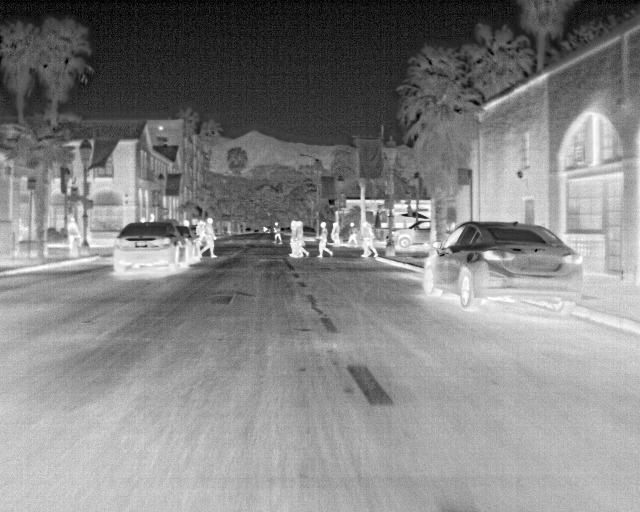bicycle: (419, 220, 584, 314), (110, 219, 185, 279), (388, 219, 428, 248), (177, 224, 196, 261)
empty: (198, 216, 221, 260), (358, 220, 381, 262), (290, 221, 314, 261), (315, 221, 334, 260), (65, 216, 82, 256), (346, 219, 359, 246), (271, 220, 284, 246)
